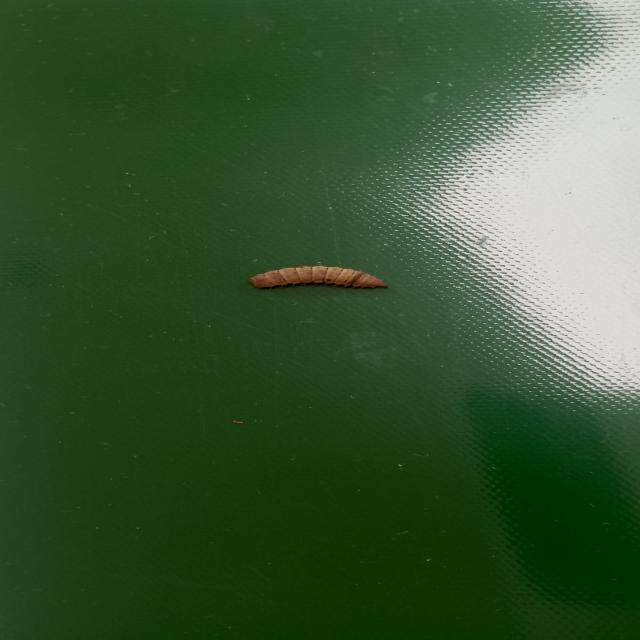Maggot: (249, 263, 387, 291)
